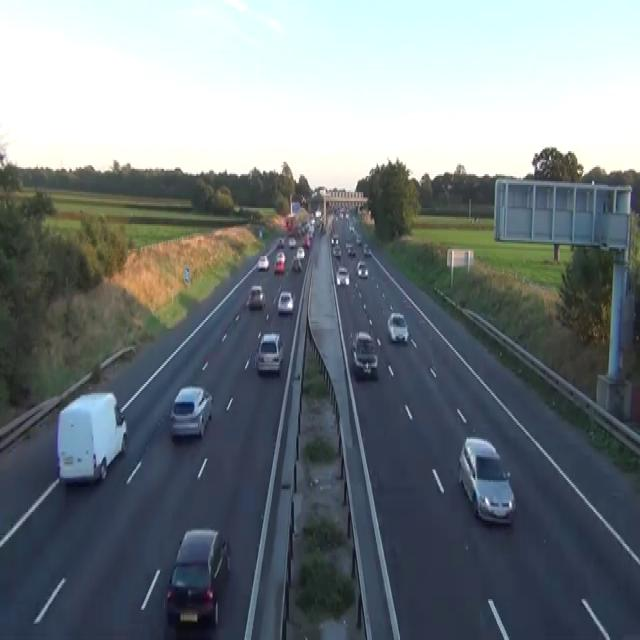Car: (164, 526, 230, 628), (458, 436, 516, 524), (169, 384, 212, 437), (350, 331, 378, 378), (254, 331, 283, 375), (387, 311, 408, 343), (162, 628, 219, 638), (246, 284, 265, 310), (277, 290, 294, 313), (336, 265, 350, 286), (273, 250, 285, 274), (356, 260, 368, 279), (257, 254, 269, 270), (291, 256, 301, 272), (275, 251, 285, 265), (332, 245, 341, 258), (296, 245, 304, 258), (363, 244, 371, 256), (331, 233, 339, 245), (347, 245, 355, 256), (288, 237, 296, 247), (319, 222, 325, 235), (305, 235, 311, 247), (345, 242, 353, 250), (278, 237, 284, 247), (355, 233, 361, 243), (349, 224, 354, 231), (345, 212, 349, 218), (259, 230, 262, 237)
Truck: (56, 391, 127, 485)
